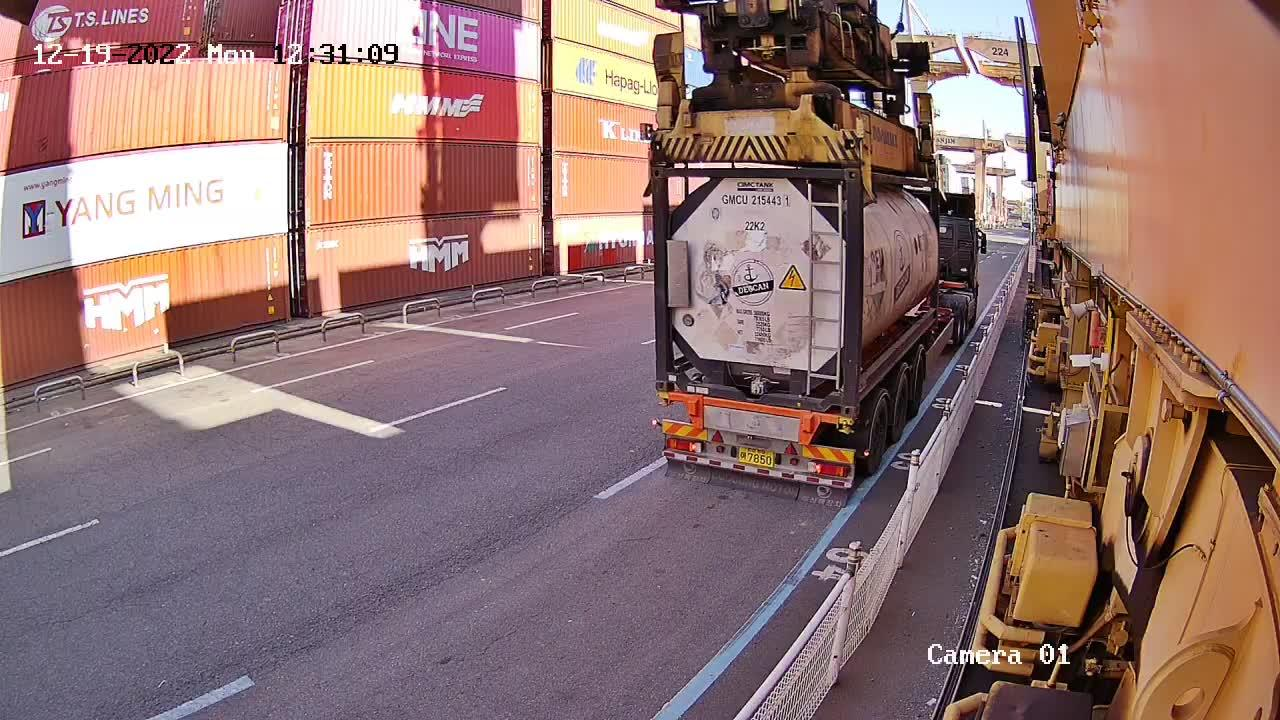Chassis: (668, 394, 840, 445)
Cone: (839, 417, 855, 437), (656, 394, 668, 409)
Hole_L: (655, 362, 686, 393)
Hole_R: (818, 383, 857, 417)
Tire: (869, 400, 890, 469), (894, 378, 909, 440), (915, 355, 924, 412)
